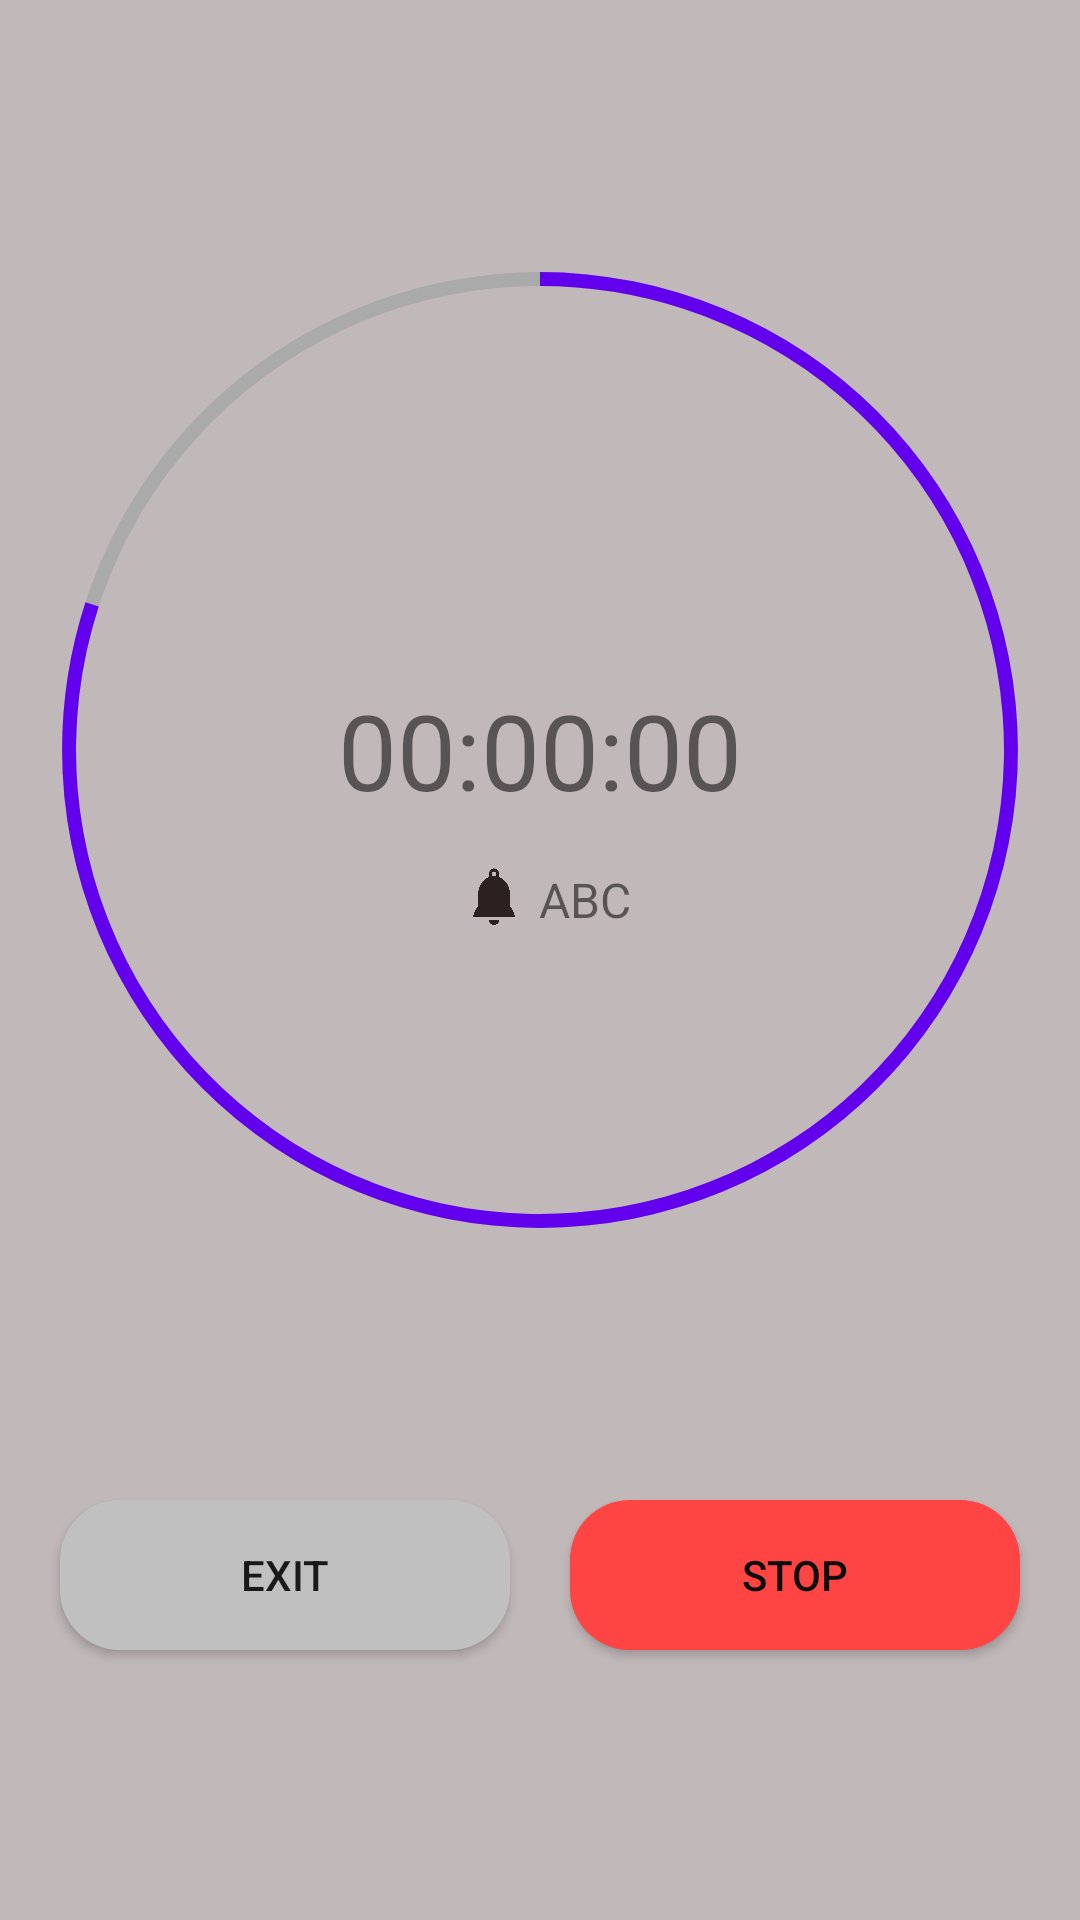

Named icons in this screenshot (1080*1920) and their bounding boxes, [left=x1, top=y1, right=x2, bottom=y2]:
bell: [left=473, top=868, right=515, bottom=925]
